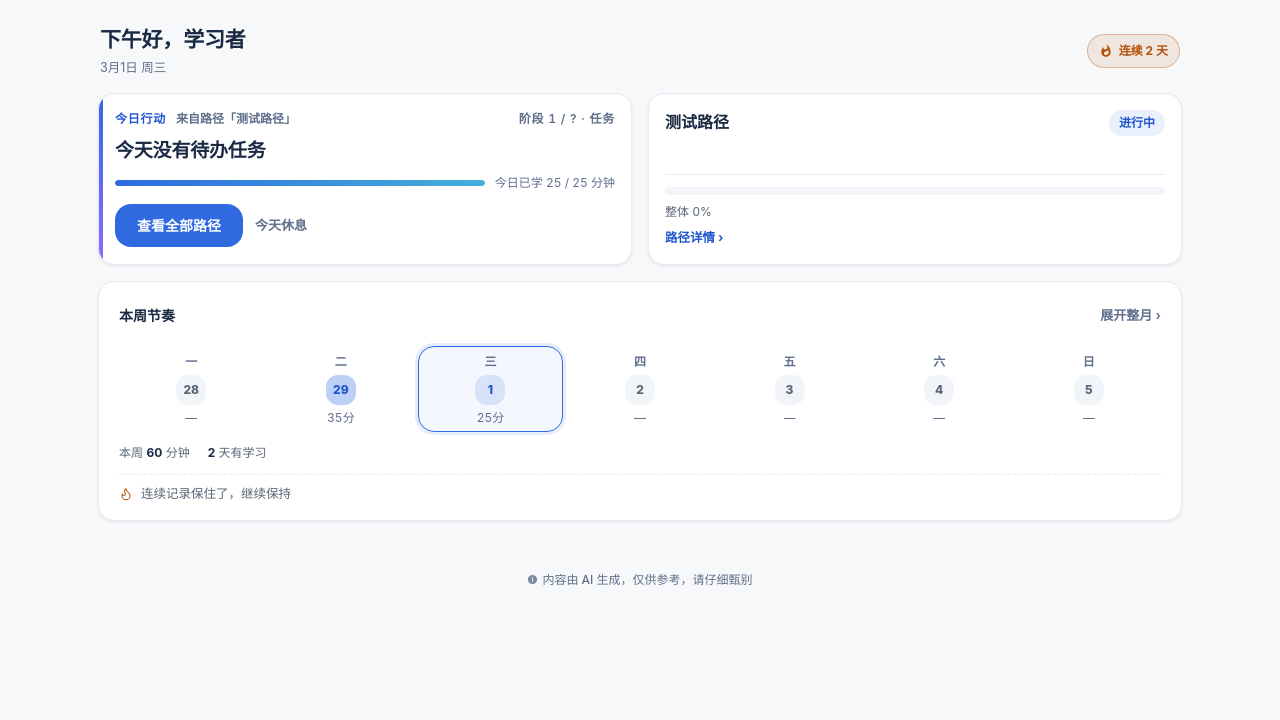
Test case: 跨月边界：本月摘要只含当前自然月 › 闰年 2/29 的学习计入 2028 年 2 月，不落到 3 月
Click the button "展开整月 ›" at (1131, 316), box [1100,298,1161,334]
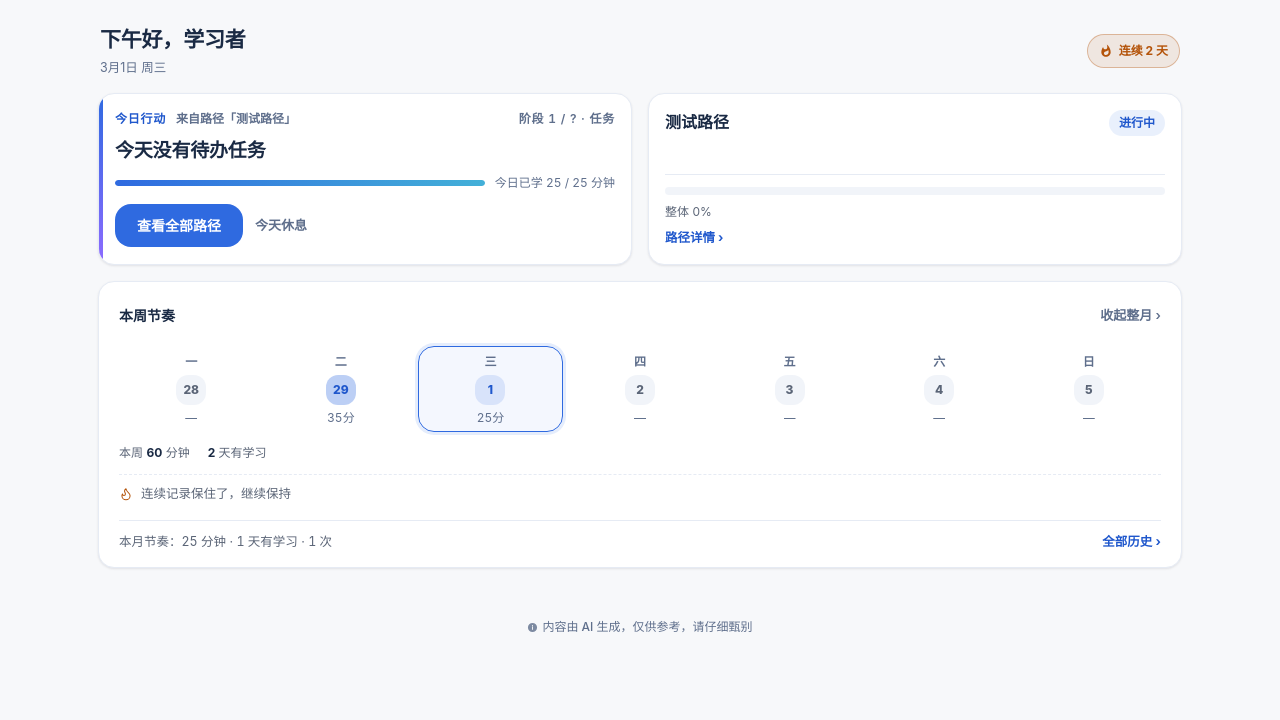
Check: the element with class "month-summary" shows "本月节奏：25 分钟", box [119,534,332,549]
Check: the element with class "month-summary" shows "1 天有学习", box [119,534,332,549]
